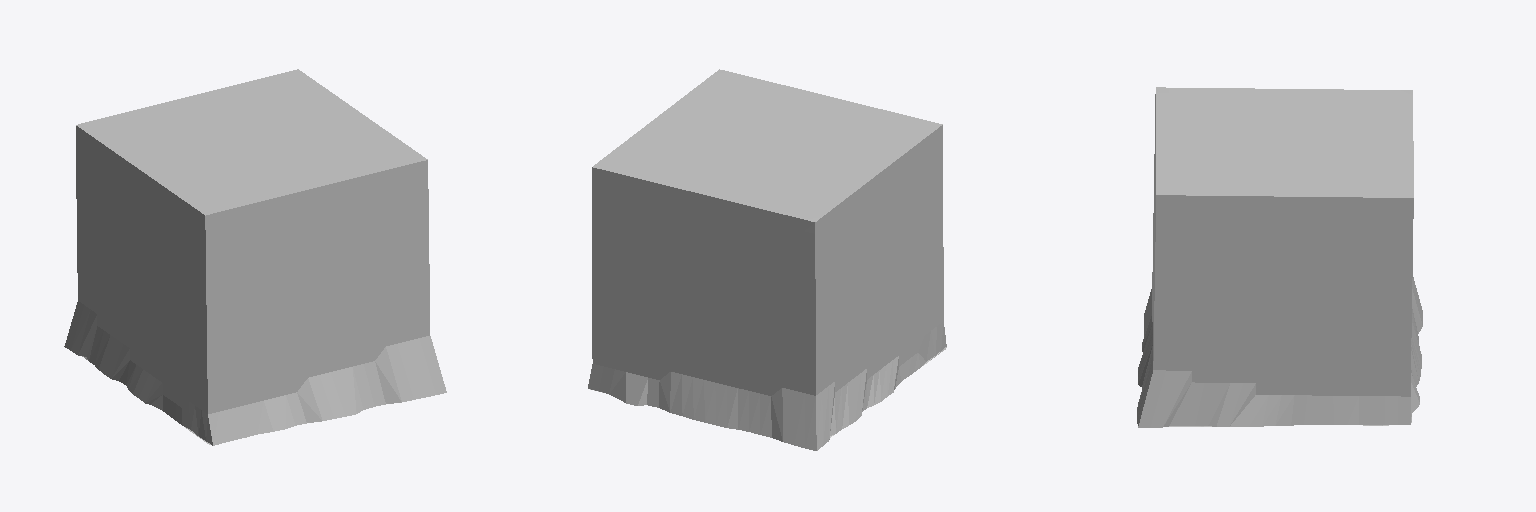
Rendered from mod0077.obj.
The picture shows the model from 3 angles: view 1: azimuth 30°, elevation 25°; view 2: azimuth 150°, elevation 25°; view 3: azimuth 270°, elevation 25°; orthographic projection.
Parts seen in each view (by area): view 1: Box001; view 2: Box001; view 3: Box001.
Boxes of the visible parts, x1,y1,x2,y2 form: Box001: [64, 69, 446, 445]; Box001: [588, 69, 946, 450]; Box001: [1137, 87, 1422, 427].
Size of the model in its own units: 0.5799 by 0.5283 by 0.5979.